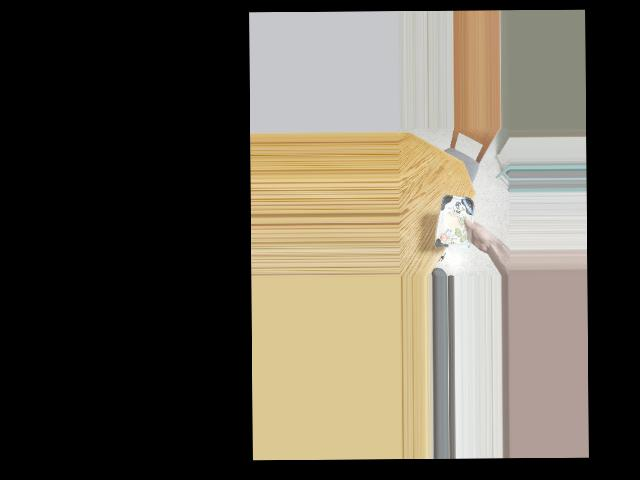cheese: (433, 196, 481, 248)
